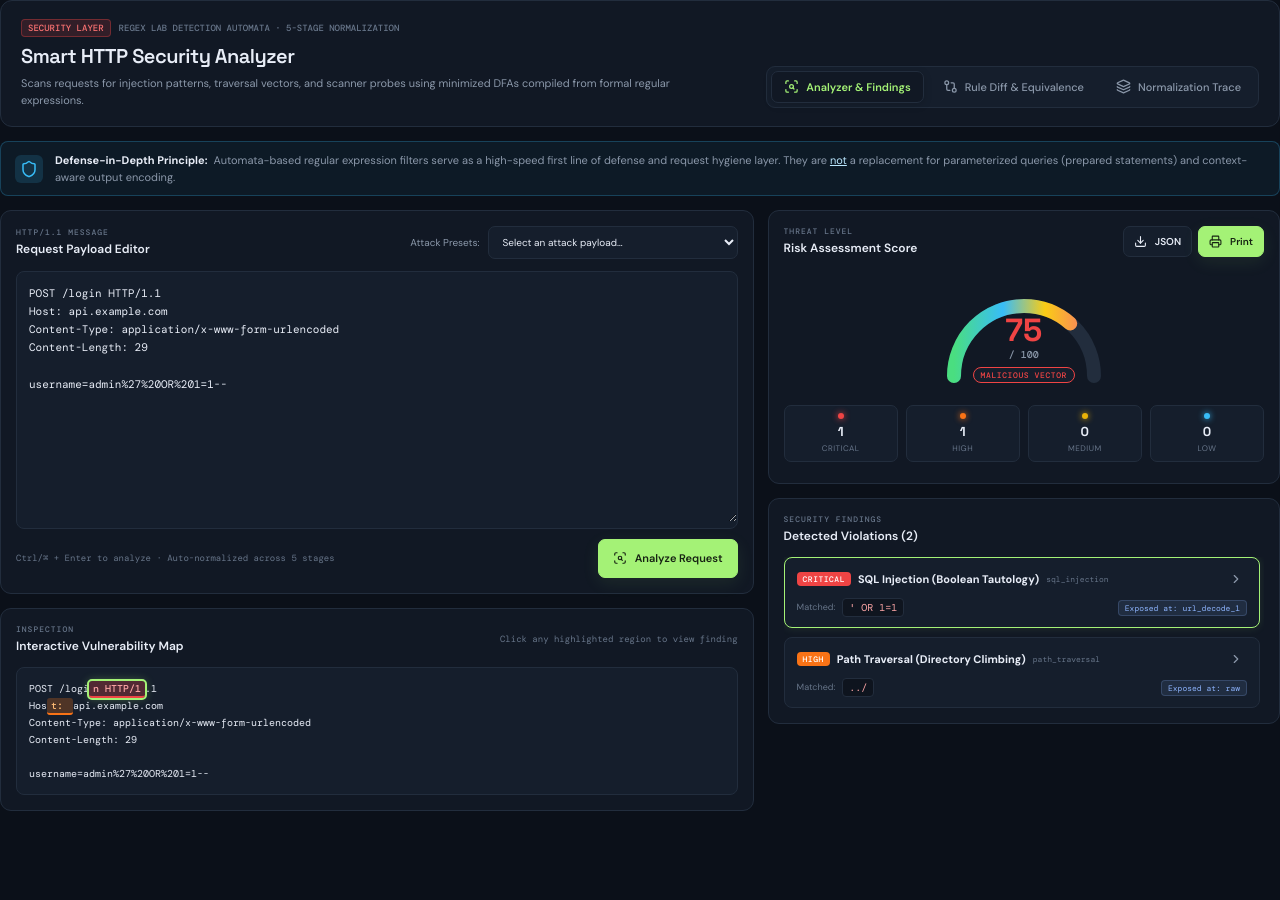
Test: Security Analyzer workspace › renders normalization trace steps in the trace tab
Expected: the text "SQL Injection (Boolean Tautology)" is shown, [858, 571, 1039, 587]
Step 1. Click the button "Normalization Trace" → click(1178, 87), box [1103, 70, 1254, 103]
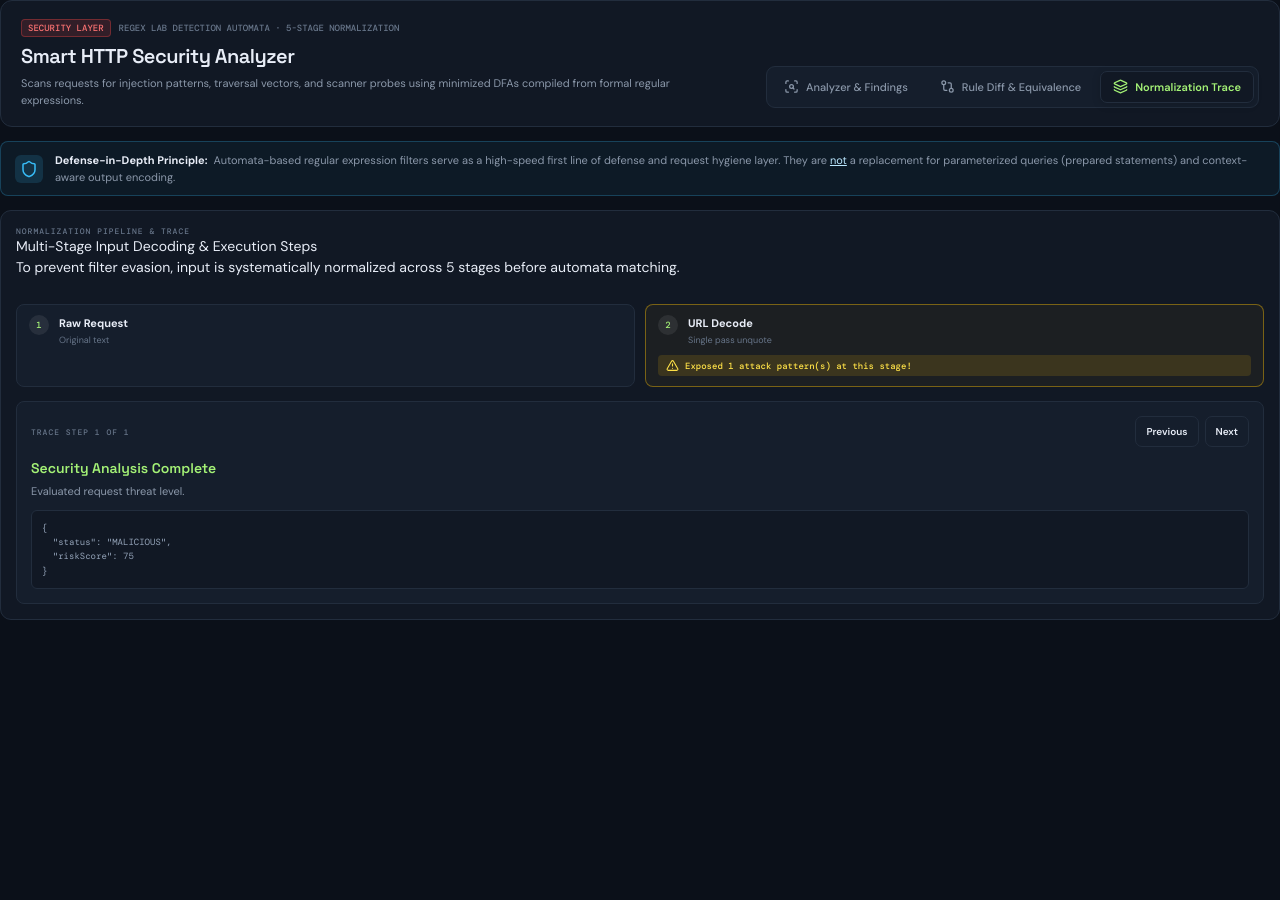
Expected: the heading "Multi-Stage Input Decoding & Execution Steps" is shown, [16, 237, 317, 255]
Expected: the text "Raw Request" is shown, [59, 315, 128, 332]
Expected: the text "URL Decode" is shown, [688, 316, 753, 330]
